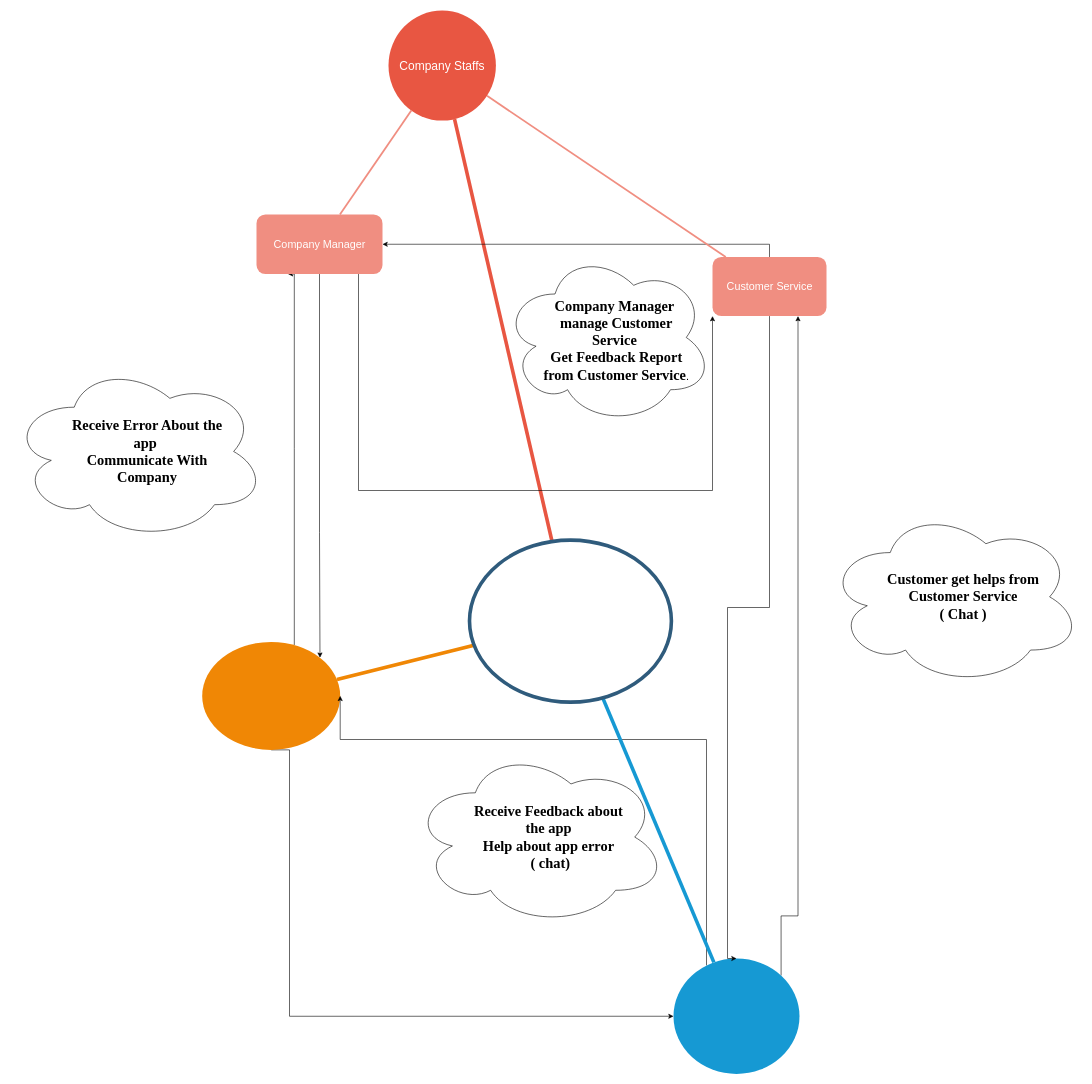
The diagram is 1092 pixels wide and 1084 high, and some of its shapes have lost their labels. The centre of each missing label's shape, as x and y in pixels:
Admin: pixel 271 696
Customer: pixel 736 1016
Customer Relation Management System: pixel 570 621
